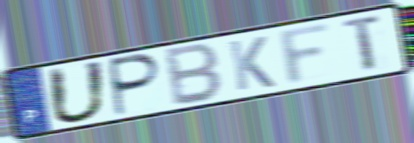B: (164, 40, 225, 109)
F: (277, 19, 334, 89)
K: (226, 34, 278, 93)
P: (109, 52, 165, 119)
T: (342, 11, 385, 75)
U: (45, 58, 110, 126)
